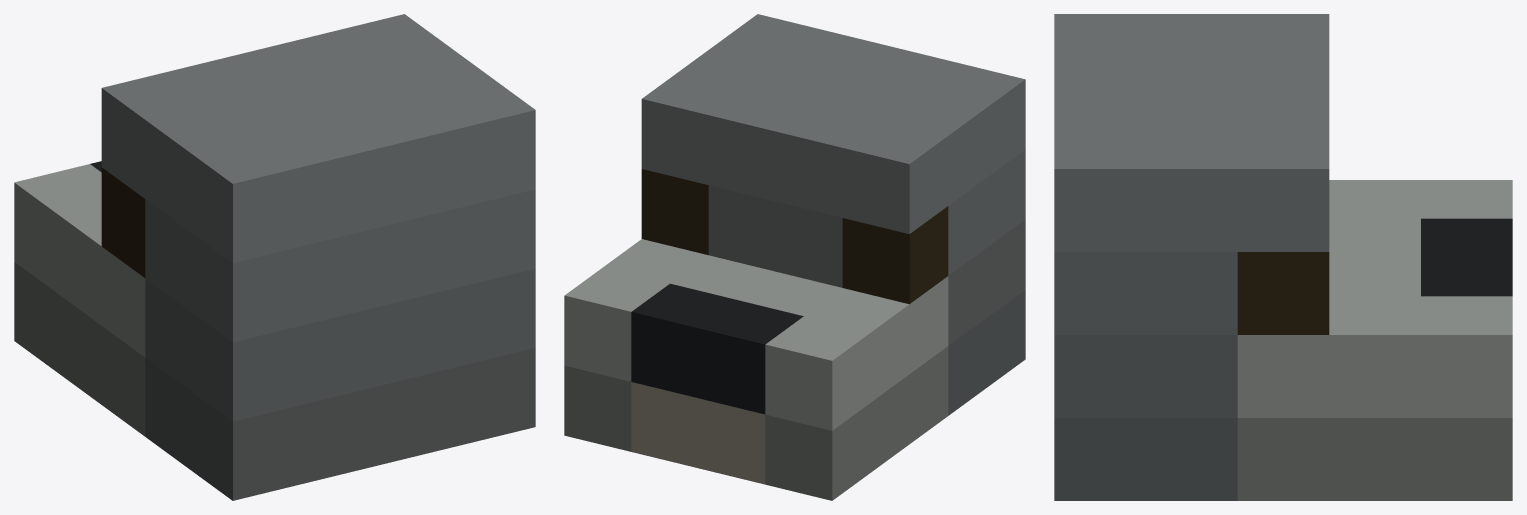
The model's file is head.glb.
3 renders of one model, left to right at view 1: azimuth 30°, elevation 25°; view 2: azimuth 150°, elevation 25°; view 3: azimuth 270°, elevation 25°, orthographic. The views are drawn at different scales.
Visible parts, largest first — view 1: head; view 2: head; view 3: head.
Part boxes in pixels (x1,y1,x2,y2): head: (14, 14, 535, 500); head: (564, 14, 1025, 500); head: (1054, 14, 1512, 500).
Size of the model in its own units: 0.5 by 0.5 by 0.625.
